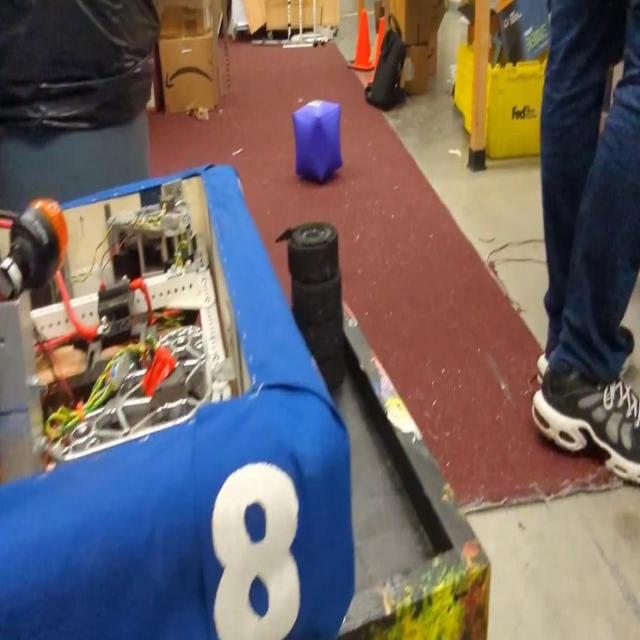frc_cube: (292, 98, 342, 186)
